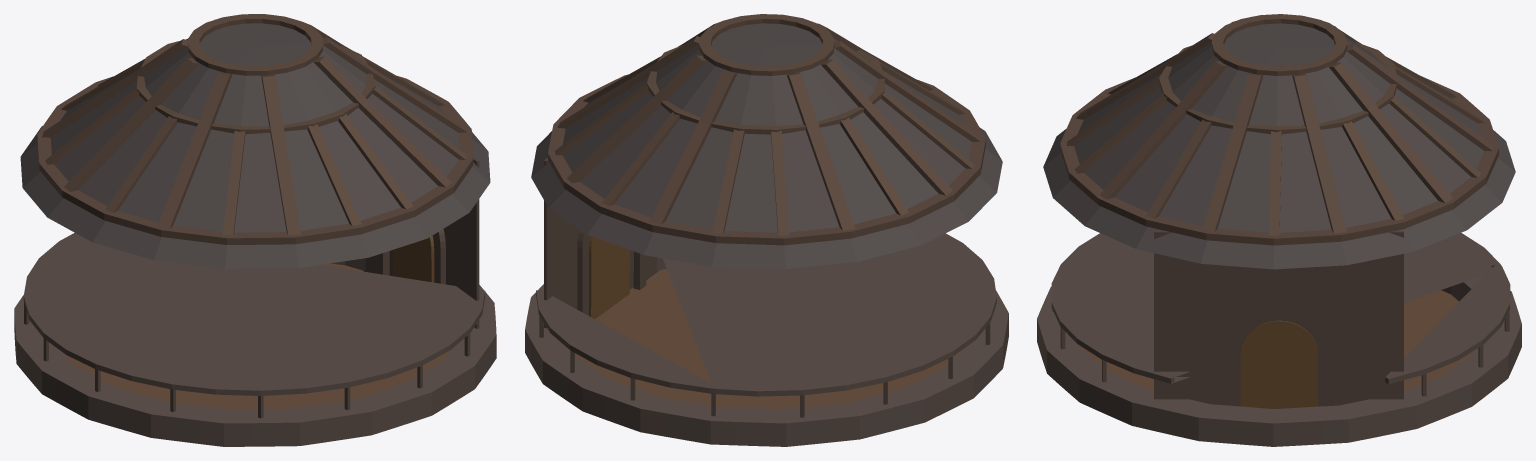
The model's file is Wierza.fbx.
3 renders of one model, left to right at view 1: azimuth 30°, elevation 25°; view 2: azimuth 150°, elevation 25°; view 3: azimuth 270°, elevation 25°, orthographic.
Parts seen in each view (by area): view 1: Cone.004, Circle, Cone.002, Cone.001, Cone.003, Cone.007, Cylinder.001, Cube.001, Cone.005, Cone.006, dzrwi, Circle.001; view 2: Cone.004, Circle, Cone.002, Cone.001, Cylinder.001, Cone.003, Cone.007, Cube.001, Cone.005, dzrwi, Cone.006, Circle.001; view 3: Cone.004, Cube.001, Cone.002, Circle, Cone.001, Cone.003, Cone.007, dzrwi, Cone.005, Cylinder.001, Cone.006, Circle.001.
Boxes of the visible parts, box(x1,y1,x2,y2) form: Cone.004: box(20, 23, 490, 268); Circle: box(23, 233, 485, 395); Cone.002: box(14, 258, 496, 446); Cone.001: box(42, 19, 466, 235); Cone.003: box(45, 58, 467, 235); Cone.007: box(37, 76, 473, 244); Cylinder.001: box(62, 263, 450, 409); Cube.001: box(363, 157, 479, 328); Cone.005: box(188, 14, 322, 75); Cone.006: box(136, 39, 375, 134); dzrwi: box(392, 235, 434, 282); Circle.001: box(24, 302, 470, 418); Cone.004: box(531, 23, 1002, 269); Circle: box(536, 233, 996, 396); Cone.002: box(525, 257, 1008, 446); Cone.001: box(557, 22, 980, 230); Cylinder.001: box(575, 268, 960, 409); Cone.003: box(554, 56, 974, 235); Cone.007: box(548, 74, 985, 245); Cube.001: box(544, 158, 659, 328); Cone.005: box(699, 14, 834, 75); dzrwi: box(589, 236, 629, 318); Cone.006: box(646, 45, 884, 134); Circle.001: box(539, 316, 990, 417); Cone.004: box(1043, 23, 1515, 269); Cube.001: box(1154, 231, 1403, 406); Cone.002: box(1037, 274, 1521, 446); Circle: box(1051, 233, 1510, 384); Cone.001: box(1076, 21, 1493, 233); Cone.003: box(1067, 54, 1484, 235); Cone.007: box(1060, 76, 1498, 245); dzrwi: box(1240, 320, 1317, 409); Cone.005: box(1211, 14, 1347, 75); Cylinder.001: box(1079, 290, 1476, 391); Cone.006: box(1159, 42, 1396, 134); Circle.001: box(1052, 310, 1509, 396).
Bounding box in the file's own units: 1043 × 724 × 1043.
